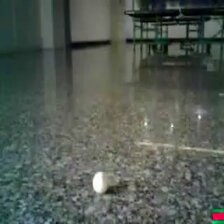w: (93, 170, 109, 192)
